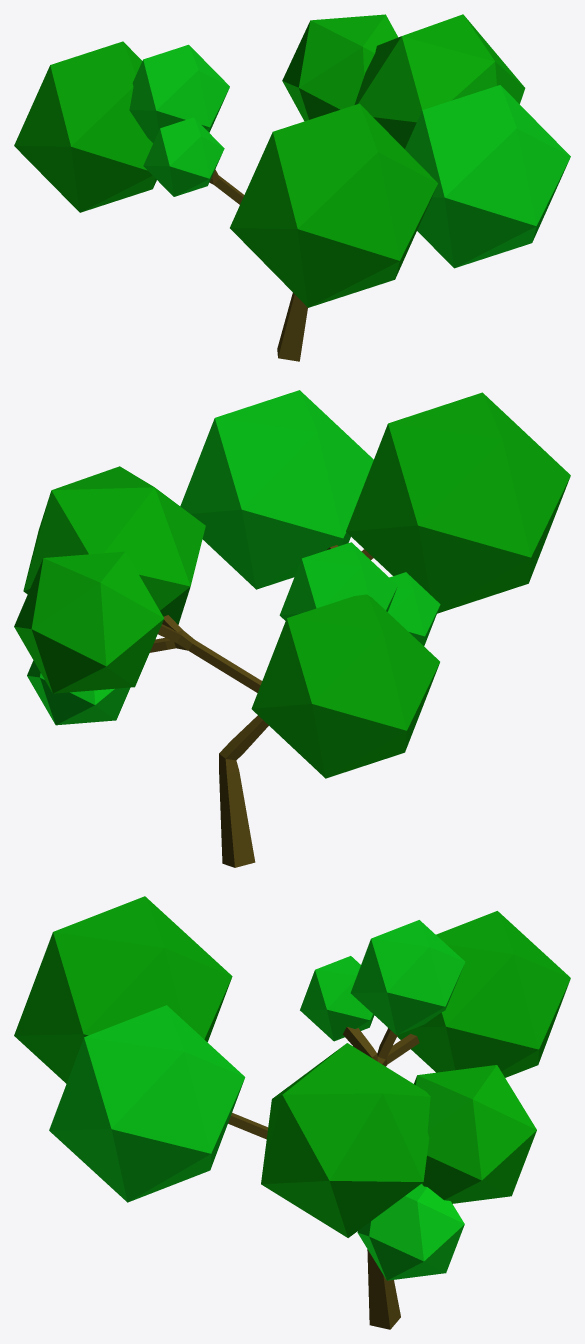
Rendered from tree_4.fbx.
The picture shows the model from 3 angles, top to bottom: view 1: azimuth 30°, elevation 25°; view 2: azimuth 150°, elevation 25°; view 3: azimuth 270°, elevation 25°; orthographic projection. The views are drawn at different scales.
Parts seen in each view (by area): view 1: Tree 4; view 2: Tree 4; view 3: Tree 4.
Boxes of the visible parts, x1=… form: Tree 4: x1=14, y1=14, x2=570, y2=361; Tree 4: x1=14, y1=390, x2=570, y2=867; Tree 4: x1=14, y1=896, x2=570, y2=1329.
Size of the model in its own units: 1994 by 1524 by 2135.
